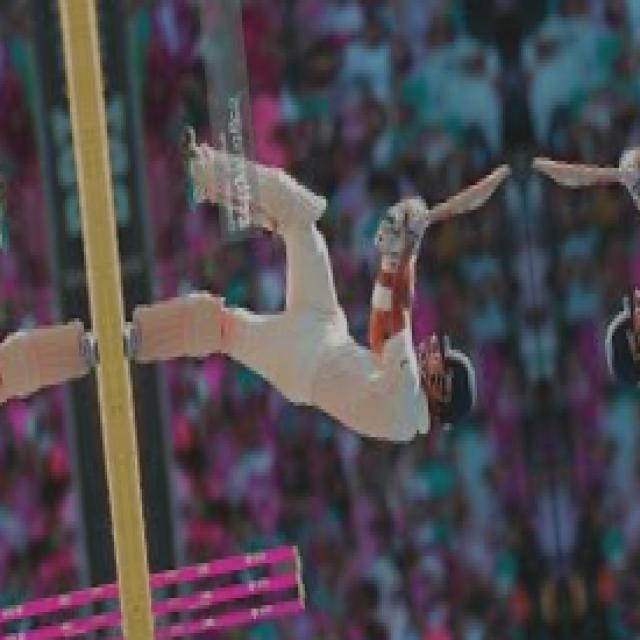toe: (494, 154, 520, 188)
